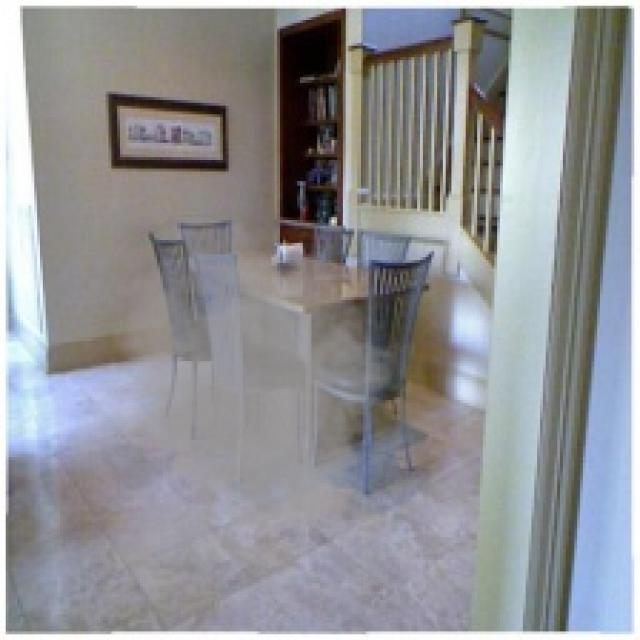smoke: (57, 212, 449, 592)
